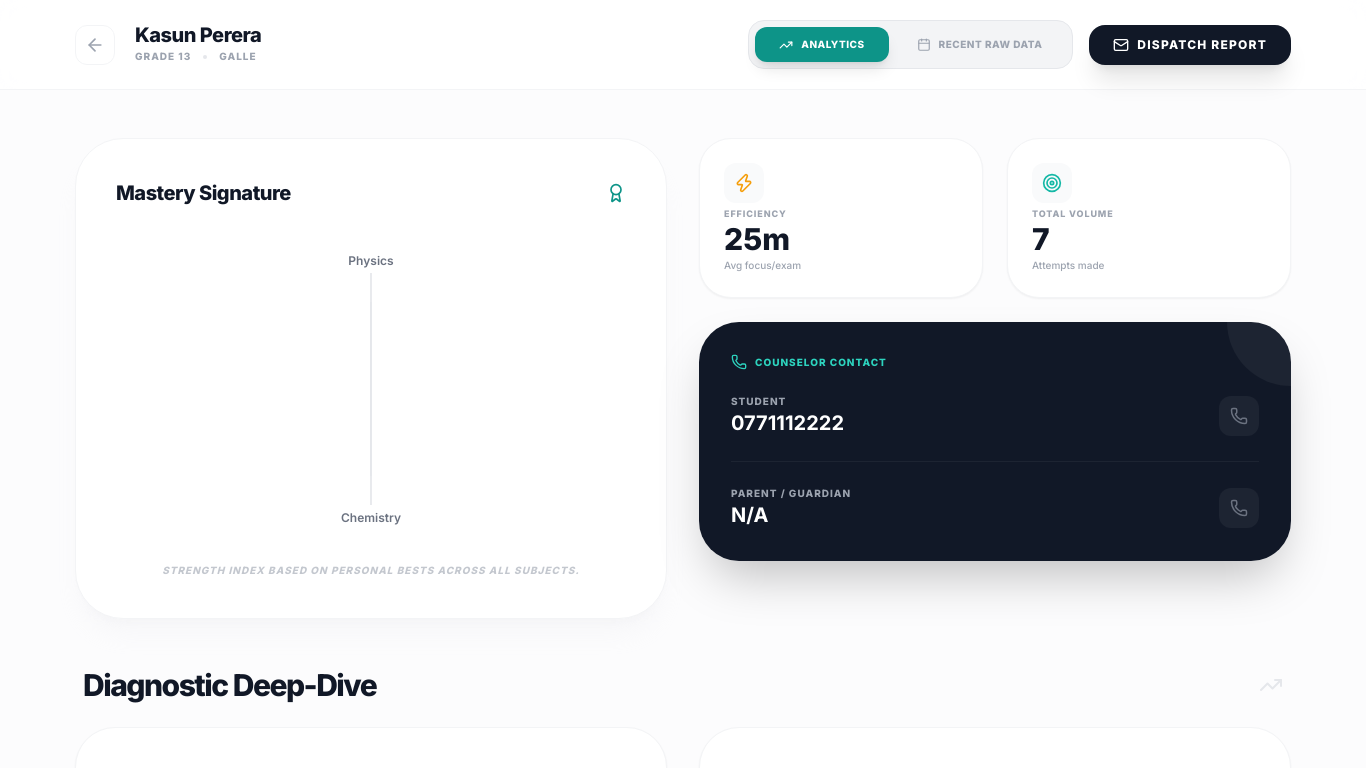
Test: Student progress (admin) › lists attempt history and opens an attempt
The width and height of the screenshot is (1366, 768).
Click the button "Recent Raw Data" at [980, 44], box x1=893 y1=27 x2=1066 y2=62
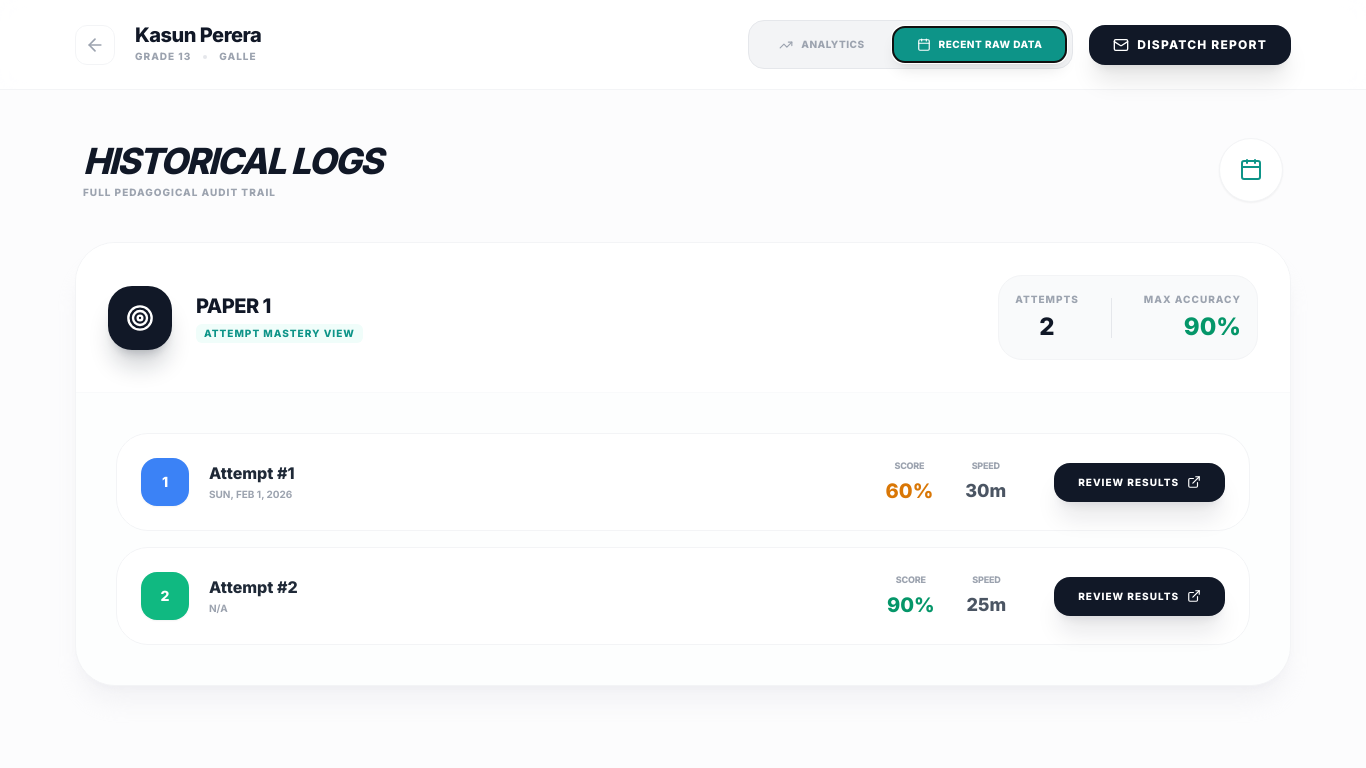
Check: the text "N/A" is shown, box x1=209 y1=602 x2=228 y2=614
Check: the heading "Paper 1" is shown, box x1=196 y1=294 x2=271 y2=318
Check: the text "Attempt #1" is shown, box x1=209 y1=462 x2=294 y2=482
Click the button "Review Results" in the row of "25" at [1140, 596], box x1=1054 y1=576 x2=1225 y2=616
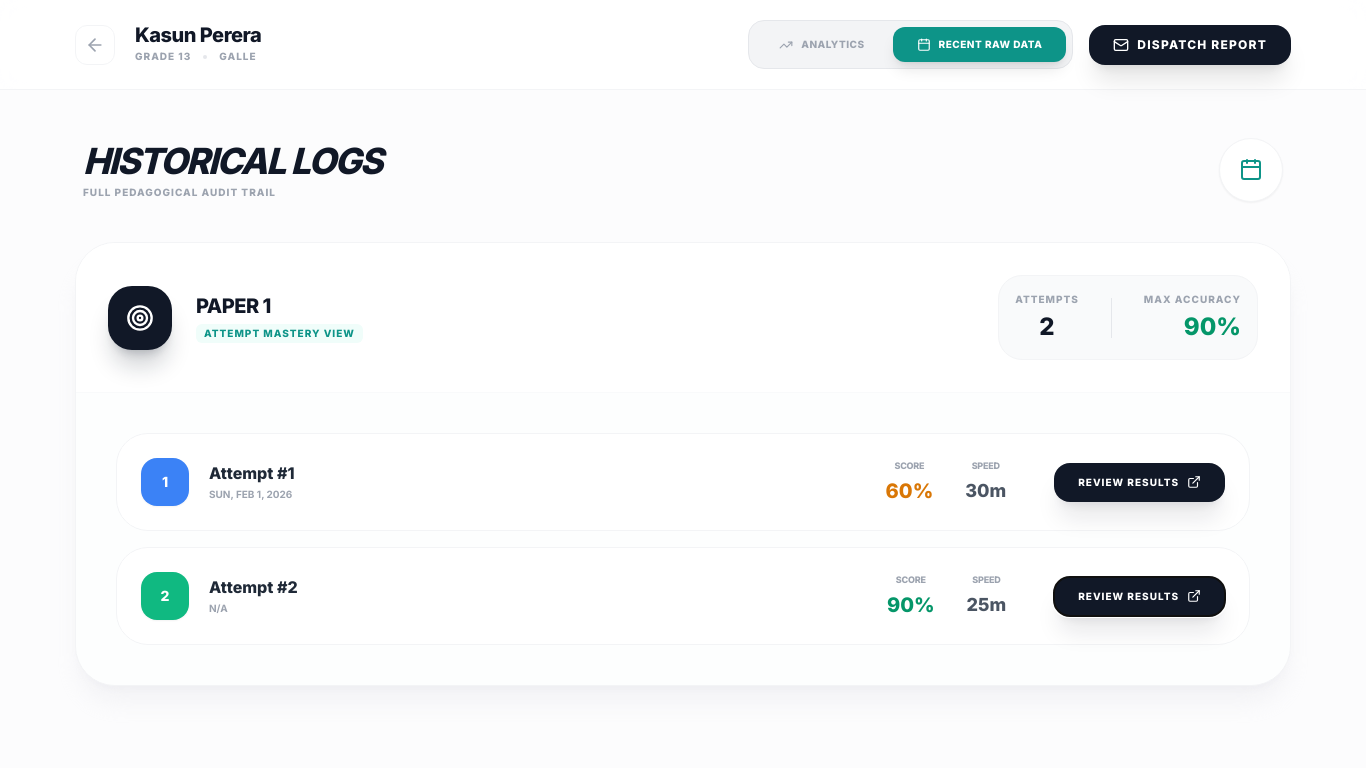
Click the button "Analytics" at [822, 44], box x1=755 y1=27 x2=889 y2=62
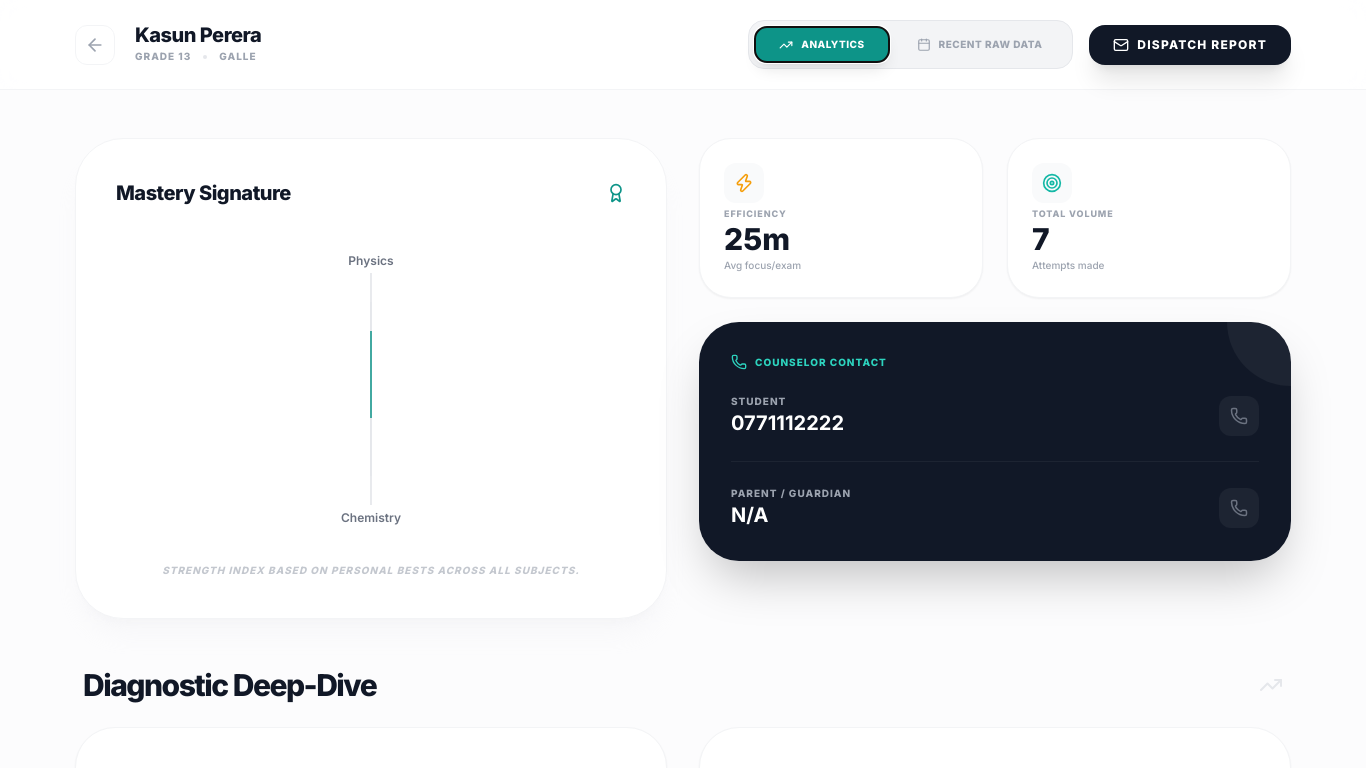
Check: the heading "Mastery Signature" is shown, box x1=116 y1=179 x2=291 y2=207
